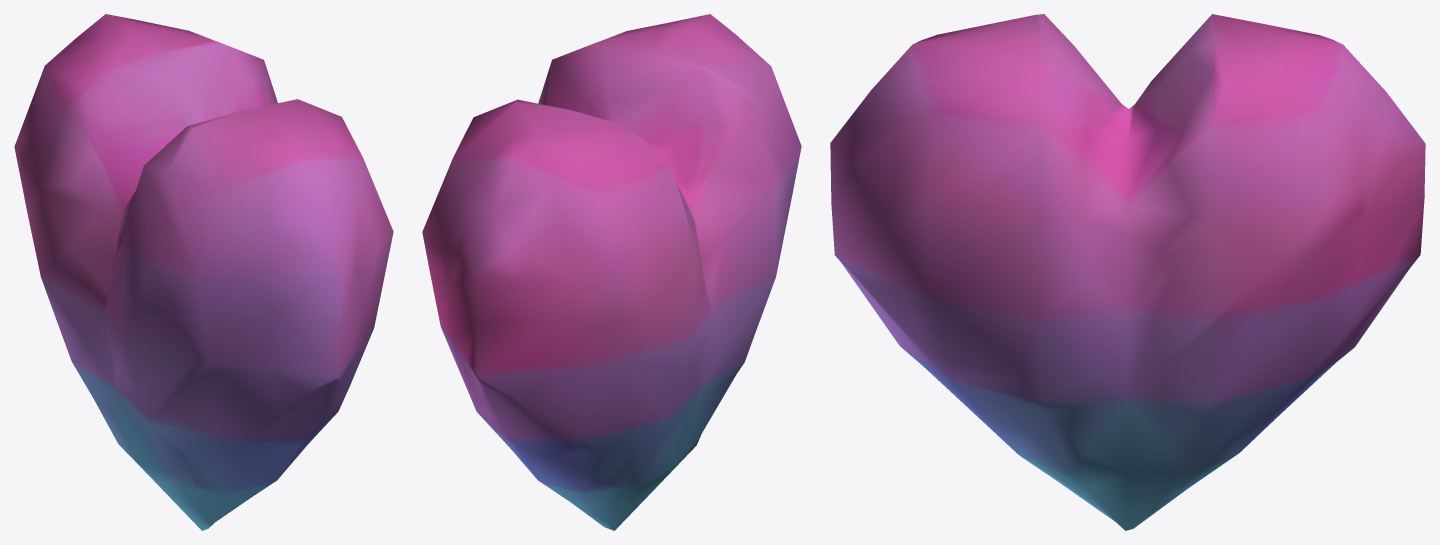
The model's file is Hearth.fbx.
3 renders of one model, left to right at view 1: azimuth 30°, elevation 25°; view 2: azimuth 150°, elevation 25°; view 3: azimuth 270°, elevation 25°, orthographic. The views are drawn at different scales.
Visible parts, largest first — view 1: hearth; view 2: hearth; view 3: hearth.
Boxes of the visible parts, box(x1,y1,x2,y2) form: hearth: box(14, 14, 393, 530); hearth: box(422, 14, 801, 530); hearth: box(830, 14, 1425, 530).
Size of the model in its own units: 52.05 by 91.14 by 100.
